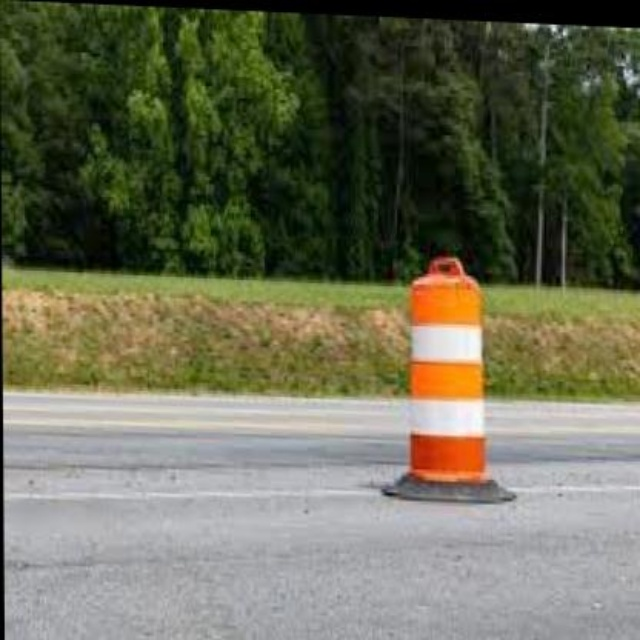obstacle: (401, 252, 494, 493)
